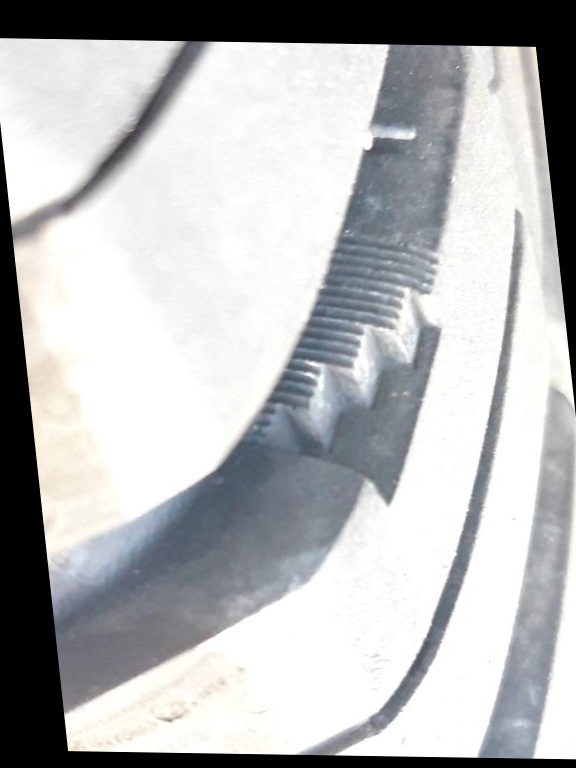temoin:90: (200, 225, 498, 520)
